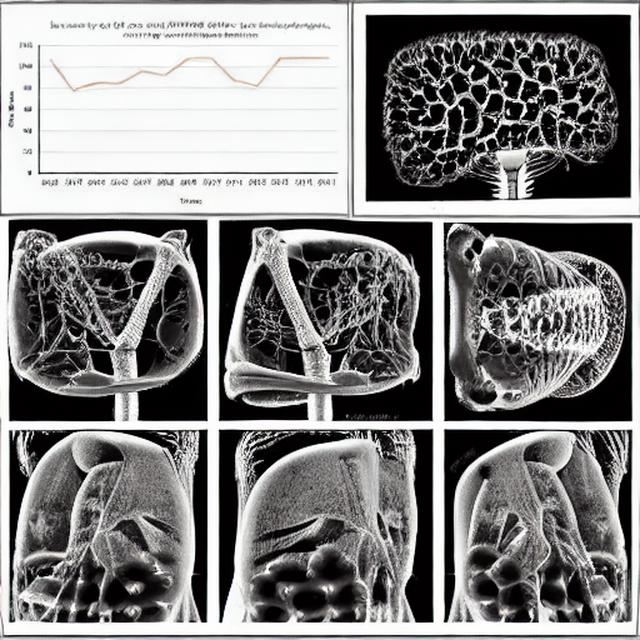Graph: (1, 9, 343, 208)
